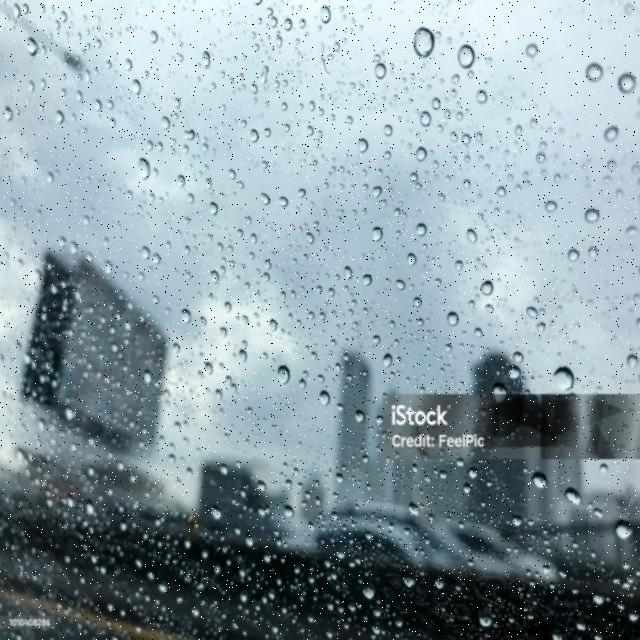raindrop: (410, 23, 436, 58), (580, 63, 607, 88), (458, 42, 476, 68), (277, 362, 292, 388), (604, 121, 622, 142), (374, 63, 391, 85), (136, 157, 152, 180), (319, 2, 334, 26), (222, 373, 240, 393), (544, 198, 562, 217), (355, 135, 372, 155), (585, 205, 602, 225), (128, 77, 143, 99), (260, 256, 272, 283), (302, 230, 318, 250), (199, 48, 213, 69), (104, 257, 118, 278), (26, 41, 43, 58), (317, 390, 333, 408), (447, 312, 462, 331), (52, 106, 66, 126), (318, 390, 332, 410), (477, 85, 489, 108), (372, 224, 386, 243), (416, 219, 430, 238), (467, 227, 481, 246), (174, 170, 187, 190), (181, 305, 194, 325), (297, 184, 310, 204), (363, 272, 376, 292), (172, 418, 186, 436), (382, 352, 396, 370), (248, 80, 261, 99), (481, 277, 494, 296), (147, 27, 160, 46), (209, 199, 220, 221), (164, 452, 179, 468), (396, 279, 410, 296), (341, 261, 353, 280), (260, 191, 272, 210), (27, 78, 38, 98), (222, 296, 234, 314), (154, 251, 167, 267), (527, 42, 540, 58), (276, 31, 288, 48), (44, 168, 55, 186), (358, 133, 369, 151), (382, 122, 395, 137), (297, 378, 310, 393), (422, 109, 434, 125), (159, 115, 171, 131), (236, 346, 248, 362), (496, 184, 508, 200), (104, 56, 116, 72), (4, 103, 13, 124), (124, 188, 136, 203), (249, 129, 260, 145), (93, 99, 106, 112), (451, 259, 464, 272), (415, 145, 427, 159), (138, 245, 150, 259), (172, 339, 183, 354), (81, 213, 91, 229), (126, 186, 136, 202), (228, 166, 238, 182), (268, 319, 280, 332), (463, 178, 475, 191), (105, 96, 116, 110), (285, 17, 296, 31), (249, 231, 260, 245), (52, 166, 64, 178), (201, 178, 213, 190), (462, 129, 470, 147), (243, 213, 254, 226), (516, 122, 525, 137), (108, 117, 119, 129), (429, 96, 440, 108), (184, 212, 192, 228), (449, 129, 458, 143), (186, 128, 194, 143), (153, 292, 161, 307), (239, 118, 249, 129), (102, 235, 111, 247), (75, 89, 83, 102), (278, 290, 288, 300), (385, 148, 396, 157), (285, 309, 294, 320), (373, 334, 381, 346), (532, 117, 540, 129), (308, 310, 315, 322), (35, 208, 43, 218), (260, 161, 271, 168), (348, 112, 352, 124)
